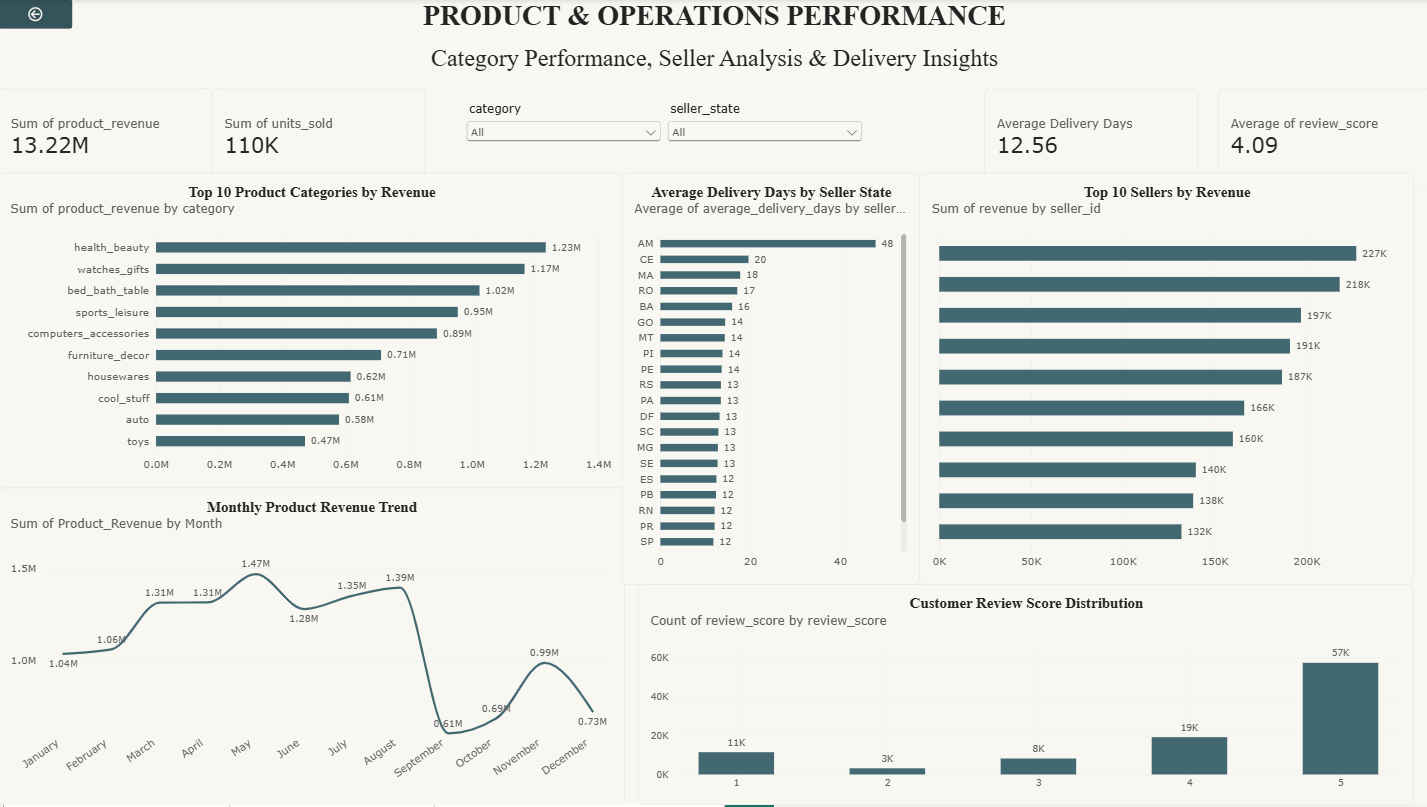

The page's visual inventory and layout, read from the dashboard file:
{"tool":"powerbi","page":{"name":"Product & Operations Performance","canvas":[1920,1080],"ordinal":2},"visuals":[{"type":"textbox","box":[0,0,1920.4,170.8],"z":0},{"type":"cardVisual","fields":{"Data":["Sum(public vw_category_performance.product_revenue)"]},"box":[0,119.4,286.1,131.7],"z":1},{"type":"cardVisual","fields":{"Data":["Avg(public order_reviews.review_score)"]},"box":[1634.3,119.4,286.1,131.7],"z":3},{"type":"cardVisual","fields":{"Data":["public vw_delivery_performance.Average Delivery Days"]},"box":[1321.4,119.4,286.1,131.7],"z":4},{"type":"cardVisual","fields":{"Data":["Sum(public vw_category_performance.units_sold)"]},"box":[286.1,119.4,286.1,131.7],"z":5},{"type":"clusteredBarChart","title":"Top 10 Product Categories by Revenue","fields":{"Category":["public vw_category_performance.category"],"Y":["Sum(public vw_category_performance.product_revenue)"]},"box":[0,232.6,839.8,422],"z":6},{"type":"clusteredBarChart","title":"Top 10 Sellers by Revenue","fields":{"Category":["public vw_seller_performance.seller_id"],"Y":["Sum(public vw_seller_performance.revenue)"]},"box":[1235,232.6,662.8,551.6],"z":7},{"type":"lineChart","title":"Monthly Product Revenue Trend","fields":{"Category":["monthly_sales_analysis.Month.Variation.Date Hierarchy.Month","monthly_sales_analysis.Month.Variation.Date Hierarchy.Day"],"Y":["Sum(monthly_sales_analysis.Product_Revenue)"]},"box":[0,654.5,839.8,426.1],"z":8},{"type":"clusteredColumnChart","title":"Customer Review Score Distribution","fields":{"Category":["public order_reviews.review_score"],"Y":["CountNonNull(public order_reviews.review_score)"]},"box":[858.3,784.2,1039.5,296.4],"z":9},{"type":"clusteredBarChart","title":"Average Delivery Days by Seller State","fields":{"Category":["public vw_seller_delivery_performance.seller_state"],"Y":["Avg(public vw_seller_delivery_performance.average_delivery_days)"]},"box":[835.7,232.6,399.3,551.6],"z":10},{"type":"slicer","fields":{"Values":["public vw_category_performance.category"]},"box":[623.7,137.9,269.6,94.7],"z":11},{"type":"slicer","fields":{"Values":["public vw_seller_performance.seller_state"]},"box":[893.3,137.9,269.6,94.7],"z":12},{"type":"actionButton","box":[0,0,100,40],"z":13}]}

Visuals, with their boxes in screenshot pixels (x1, y1, x2, y2), scaled from the page's 1920x1080 canvas onto the 1427x807 screenshot:
textbox: [x1=0, y1=0, x2=1426, y2=128]
cardVisual - Sum(public vw_category_performance.product_revenue): [x1=0, y1=89, x2=213, y2=188]
cardVisual - Avg(public order_reviews.review_score): [x1=1215, y1=89, x2=1426, y2=188]
cardVisual - public vw_delivery_performance.Average Delivery Days: [x1=982, y1=89, x2=1195, y2=188]
cardVisual - Sum(public vw_category_performance.units_sold): [x1=213, y1=89, x2=425, y2=188]
"Top 10 Product Categories by Revenue" clusteredBarChart: [x1=0, y1=174, x2=624, y2=489]
"Top 10 Sellers by Revenue" clusteredBarChart: [x1=918, y1=174, x2=1411, y2=586]
"Monthly Product Revenue Trend" lineChart: [x1=0, y1=489, x2=624, y2=806]
"Customer Review Score Distribution" clusteredColumnChart: [x1=638, y1=586, x2=1411, y2=806]
"Average Delivery Days by Seller State" clusteredBarChart: [x1=621, y1=174, x2=918, y2=586]
slicer - public vw_category_performance.category: [x1=464, y1=103, x2=664, y2=174]
slicer - public vw_seller_performance.seller_state: [x1=664, y1=103, x2=864, y2=174]
actionButton: [x1=0, y1=0, x2=74, y2=30]
